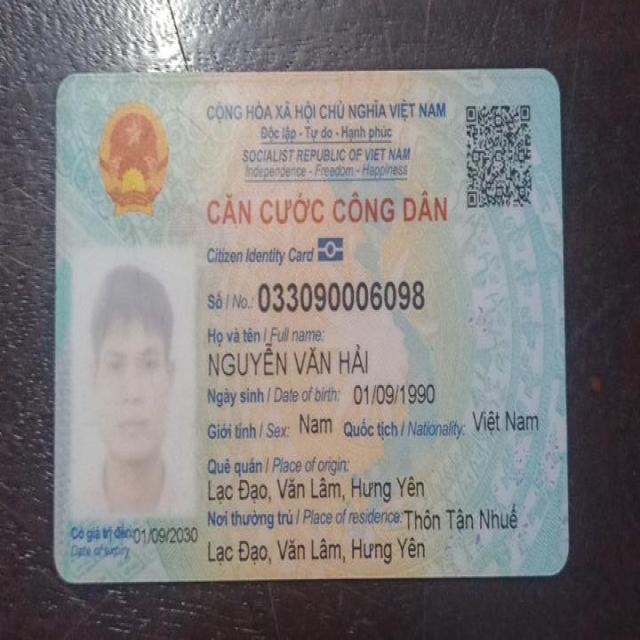bottom_left: (39, 550, 89, 598)
bottom_right: (534, 541, 580, 590)
image_person: (64, 250, 196, 522)
top_left: (42, 61, 90, 110)
top_right: (526, 55, 573, 104)
